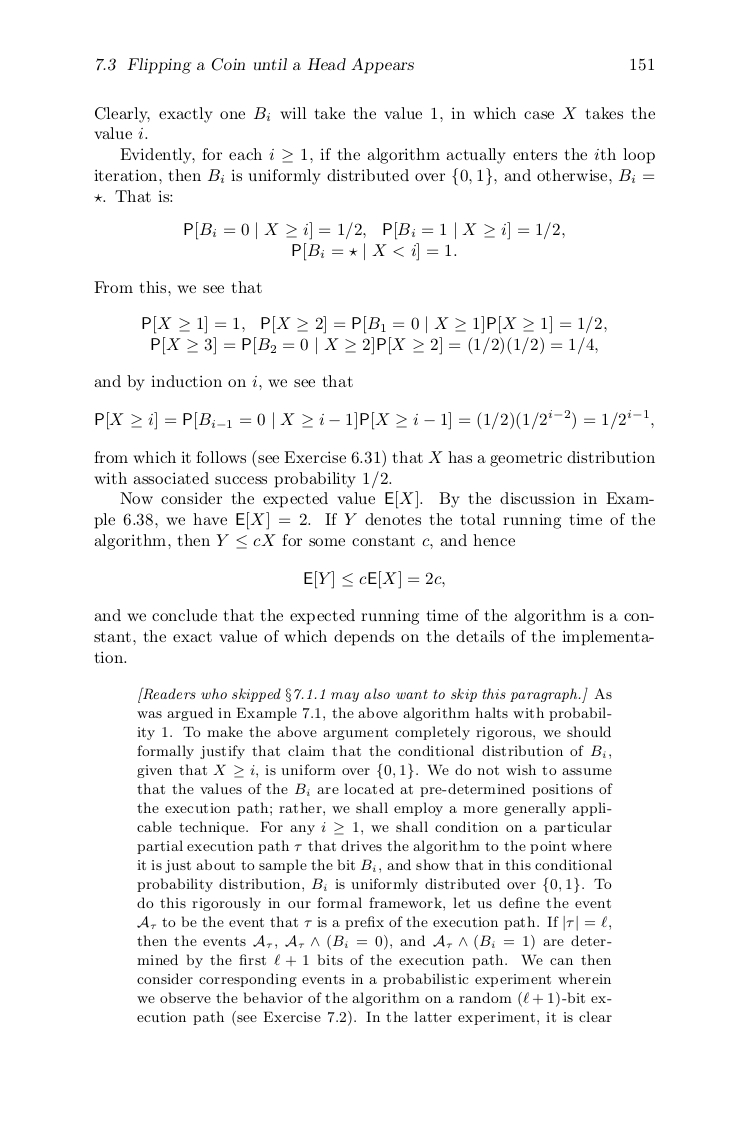formula: (95, 409, 653, 430), (142, 316, 606, 333), (151, 337, 597, 354), (184, 221, 564, 240), (292, 242, 456, 261), (304, 570, 444, 589)
